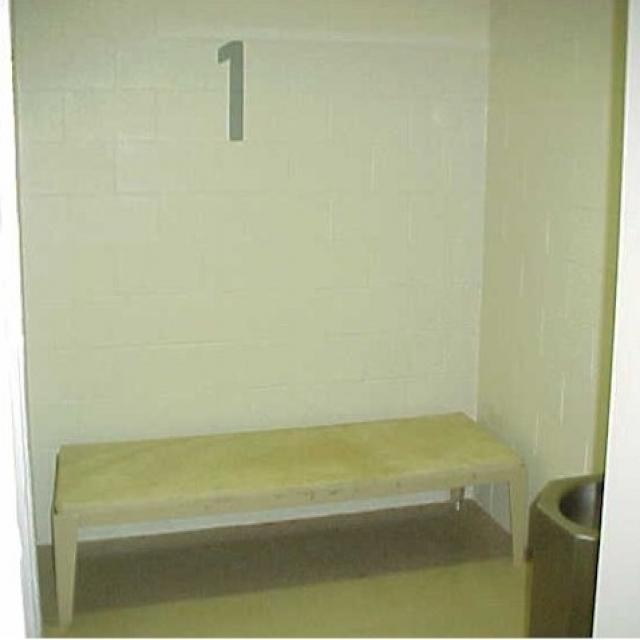berth: (51, 410, 522, 624)
floor -X: (35, 500, 525, 637)
number one: (217, 39, 241, 139)
sink basin: (521, 470, 603, 634)
wall clock: (11, 0, 489, 545), (470, 0, 627, 551), (592, 0, 637, 635)
